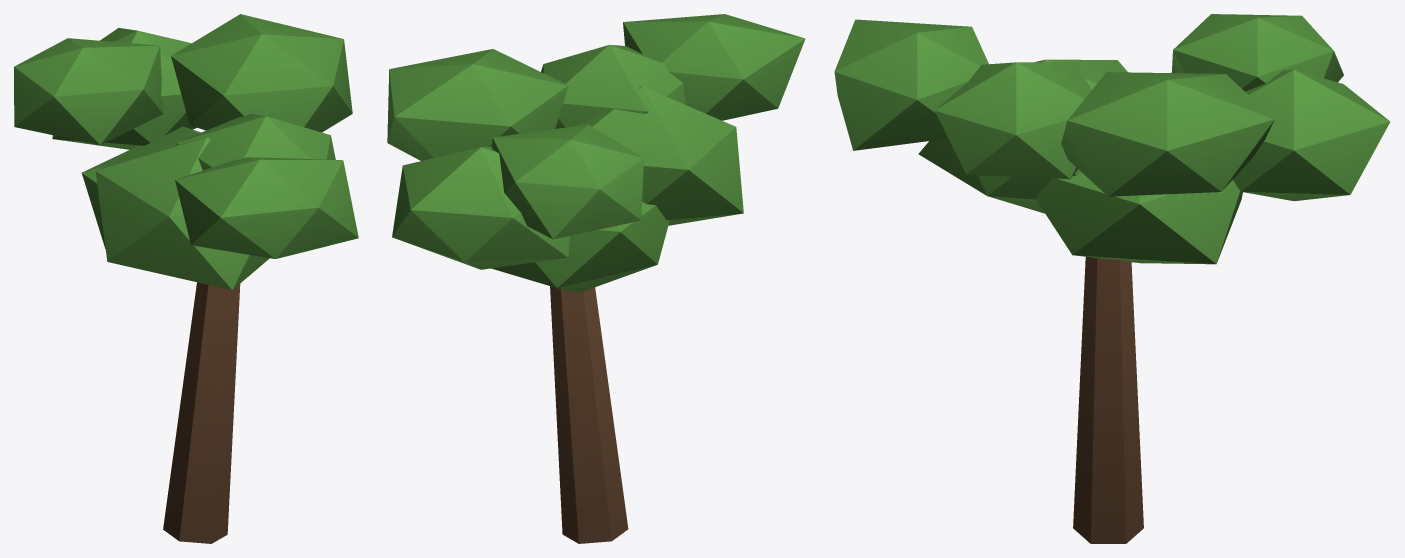
File: tree_H.glb
3 renders of one model, left to right at view 1: azimuth 30°, elevation 25°; view 2: azimuth 150°, elevation 25°; view 3: azimuth 270°, elevation 25°, orthographic. The views are drawn at different scales.
Visible parts, largest first — view 1: tree_H; view 2: tree_H; view 3: tree_H.
Part boxes in pixels (box(x1,y1,x2,y2)): tree_H: box(14, 14, 358, 543); tree_H: box(387, 14, 805, 543); tree_H: box(834, 14, 1390, 543).
Bounding box in the file's own units: 1.25 × 1.87 × 1.88.
1 material, 1 textured.
